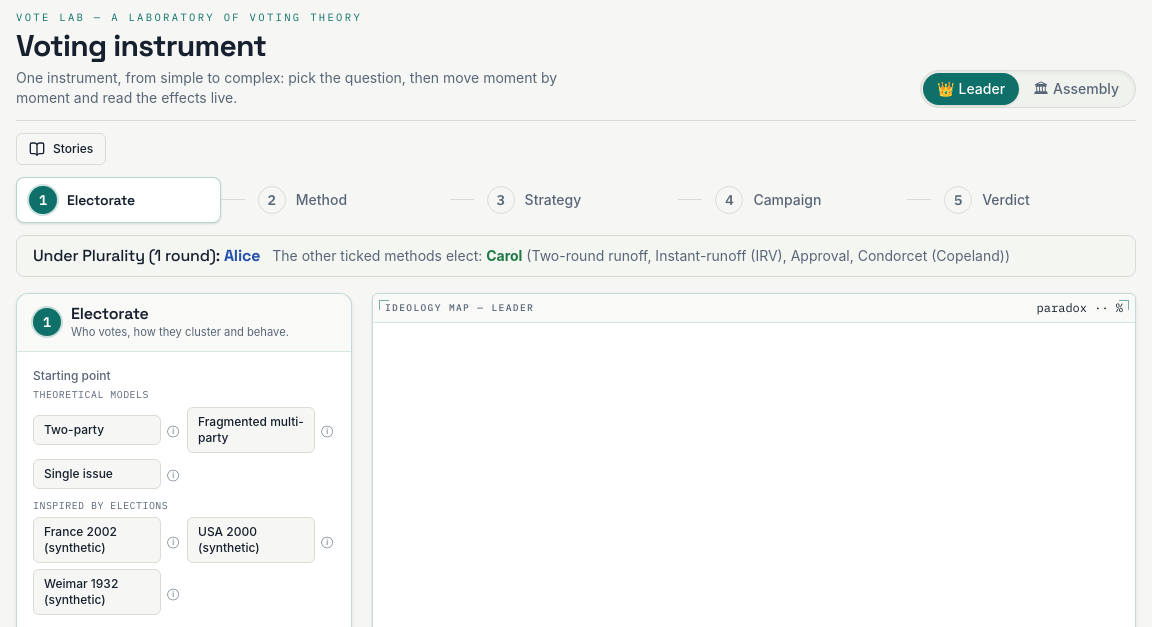
Test: PlaygroundPage (P0 shell) › mode toggle swaps the canvas, reveals assembly knobs, and persists
The image size is (1152, 627).
Step 1. Click the radio button with test id "mode-toggle-parliament" → {"x": 1076, "y": 89}, box [1019, 73, 1133, 105]
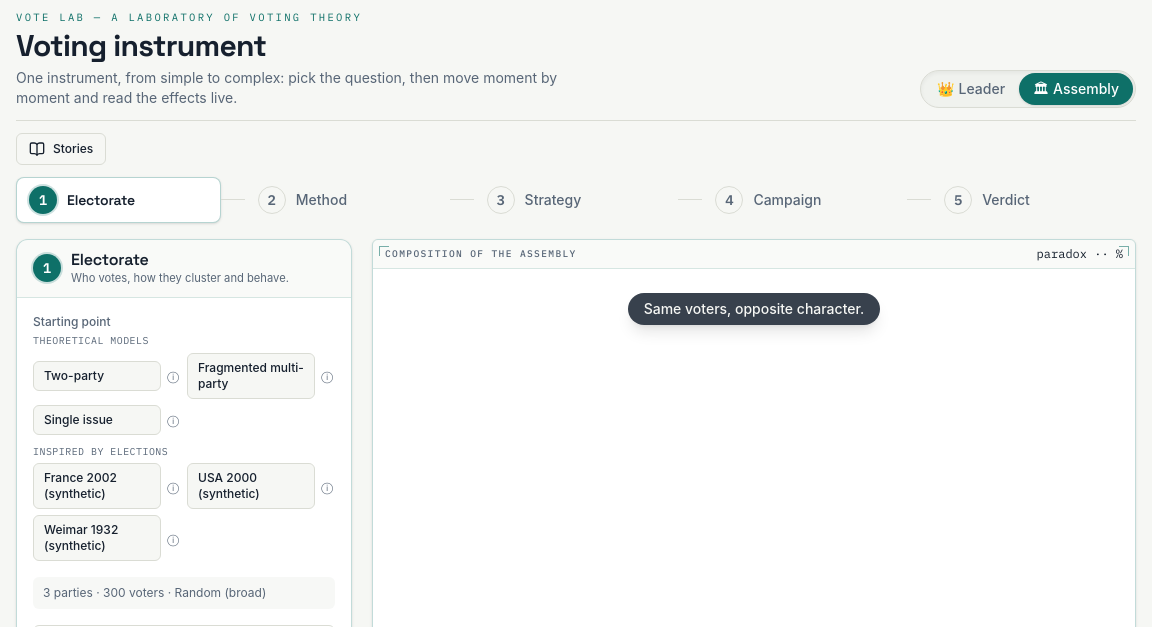
Assembly-only knob lives in the Méthode moment.
Step 2. Click the radio button with test id "moment-method" → {"x": 347, "y": 200}, box [245, 177, 450, 223]
(page scrolled)
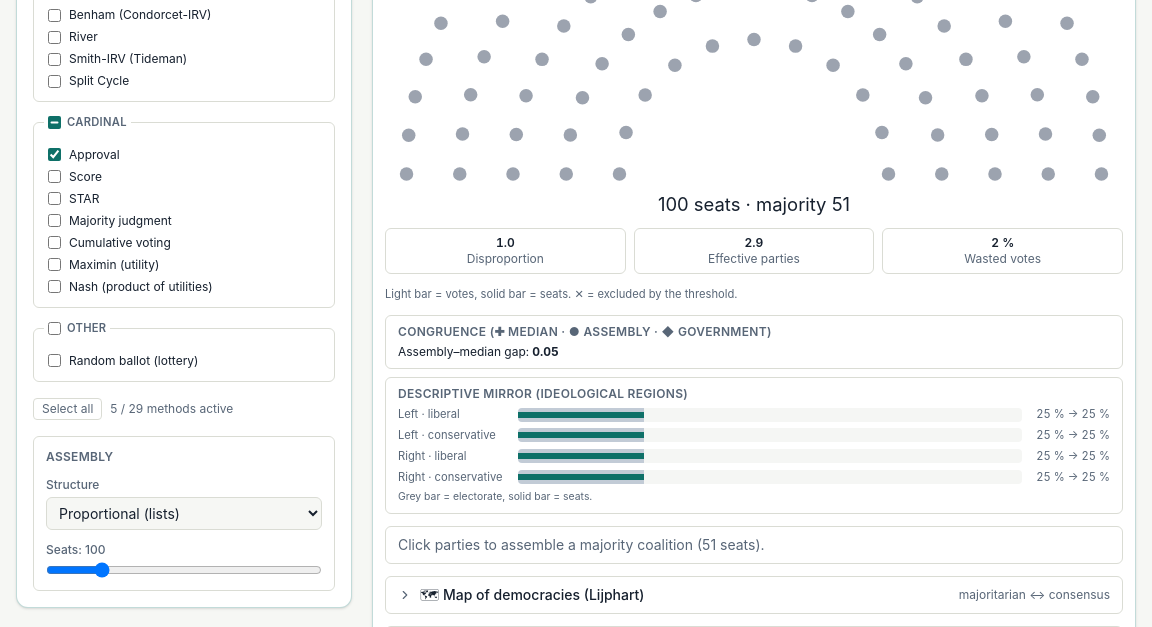
Now the dropdown labelled "Structure" is shown, box [46, 497, 322, 530]
